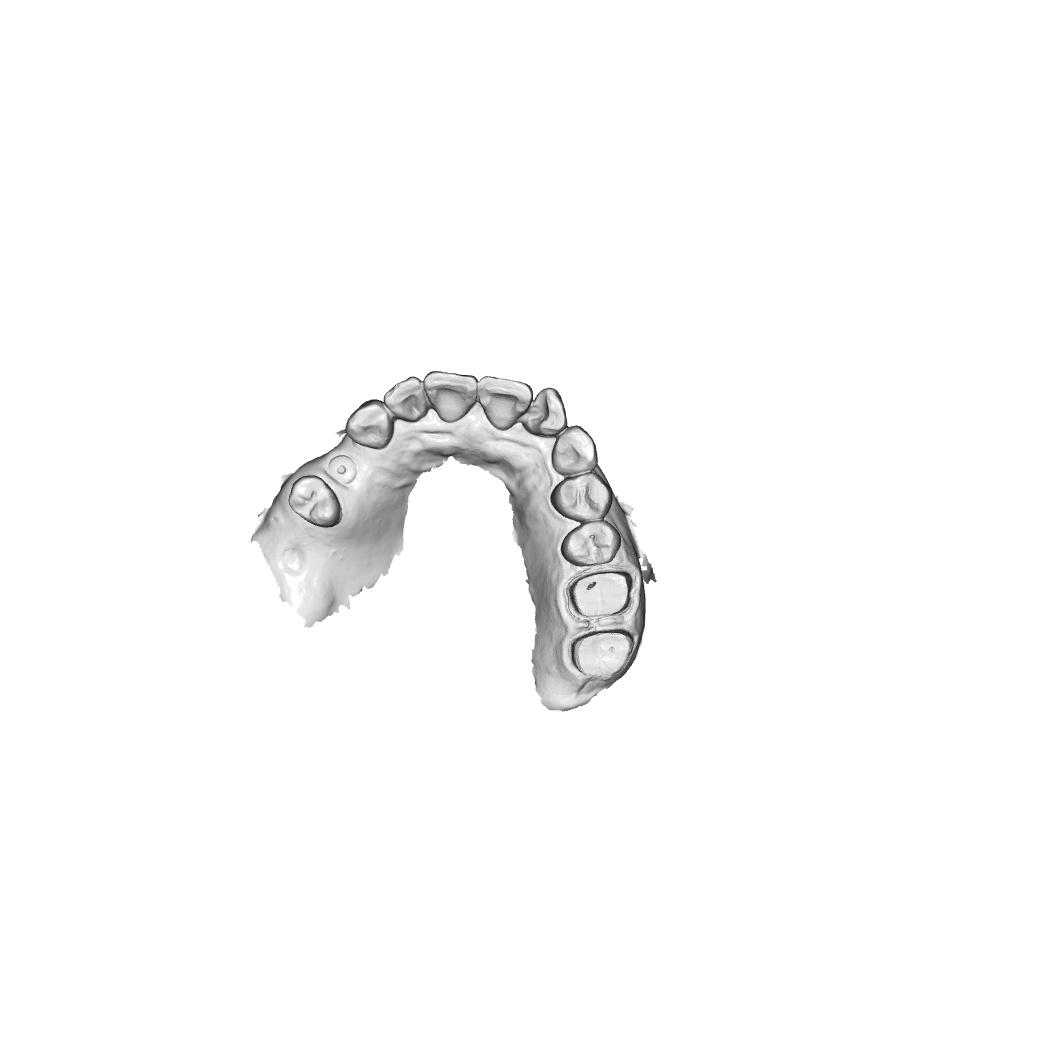canine: (345, 399, 395, 451), (550, 424, 599, 477)
crown: (568, 629, 636, 680), (567, 570, 633, 620)
implant: (326, 454, 358, 486)
incisor: (476, 375, 534, 432), (422, 370, 479, 424), (523, 387, 569, 438), (383, 375, 430, 423)
premolar: (549, 472, 615, 522), (287, 474, 343, 529), (559, 520, 622, 568)
